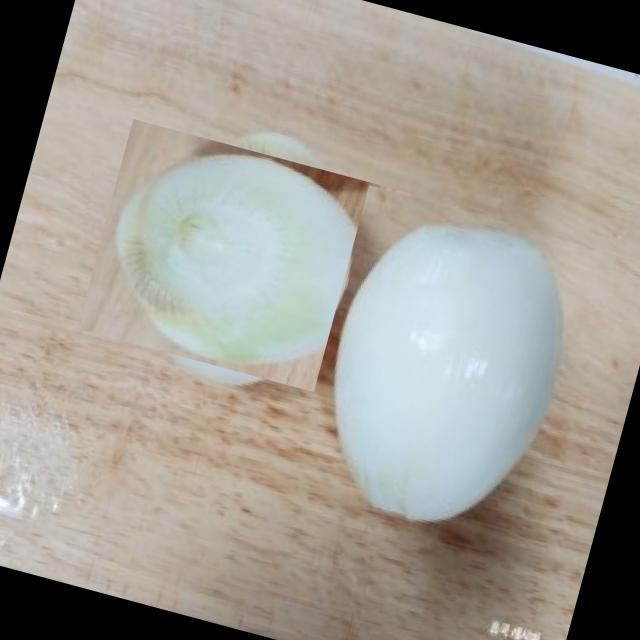Onion: (283, 186, 596, 570), (89, 106, 399, 416)
